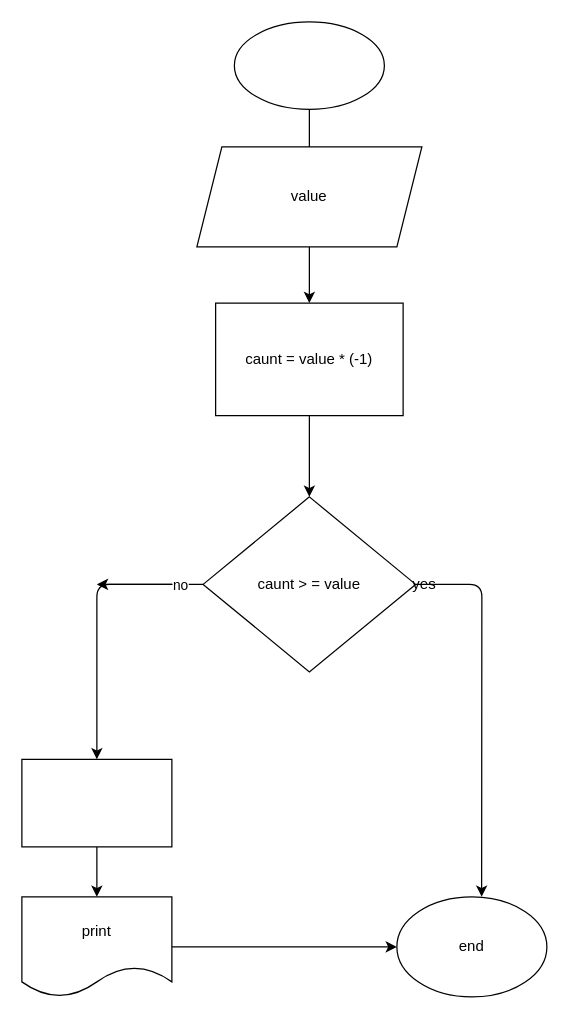
Some shapes in this 569 by 1019 pixel diagram are drawn without their labels. The shapes that lost their labels are listed below. From the top down, each one's box as (x1, y1, x2, y2) in pixels, then its label:
(233, 21, 384, 109): start
(21, 758, 172, 847): caunt ++
